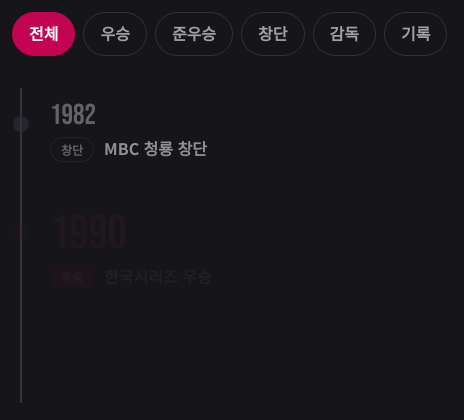
Test: HistoryExplorer › shows the empty state for a category with no events
This screenshot has width=464, height=420.
Click the button "감독" at (344, 34), box [312,12,376,56]
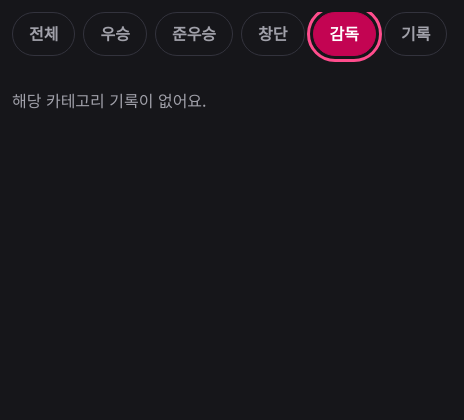
Now the text "해당 카테고리 기록이 없어요." is shown, box [12,88,206,112]
